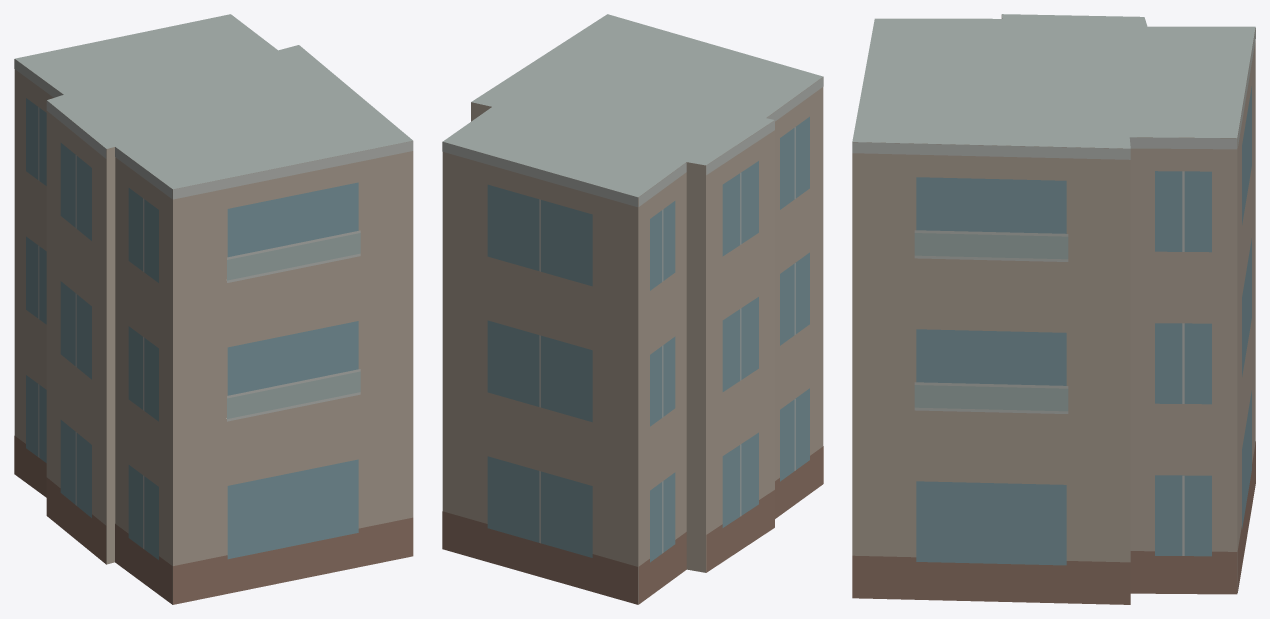
The model's file is survey-upis-32474671.glb.
3 renders of one model, left to right at view 1: azimuth 30°, elevation 25°; view 2: azimuth 150°, elevation 25°; view 3: azimuth 270°, elevation 25°, orthographic. The views are drawn at different scales.
Parts seen in each view (by area): view 1: survey-upis-32474671.tmp; view 2: survey-upis-32474671.tmp; view 3: survey-upis-32474671.tmp.
Boxes of the visible parts, left/top/right/bottom form: survey-upis-32474671.tmp: left=14, top=14, right=413, bottom=604; survey-upis-32474671.tmp: left=442, top=14, right=823, bottom=604; survey-upis-32474671.tmp: left=852, top=14, right=1255, bottom=604.
Bounding box in the file's own units: 6.27 × 9.9 × 7.95.
